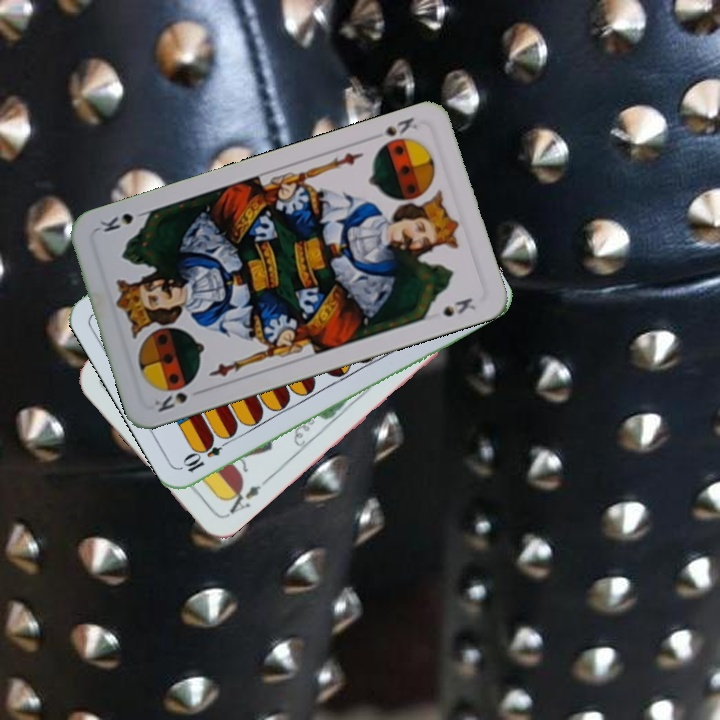E10: (179, 433, 234, 475)
EA: (220, 480, 264, 519)
SK: (150, 379, 194, 415), (379, 113, 420, 139)
